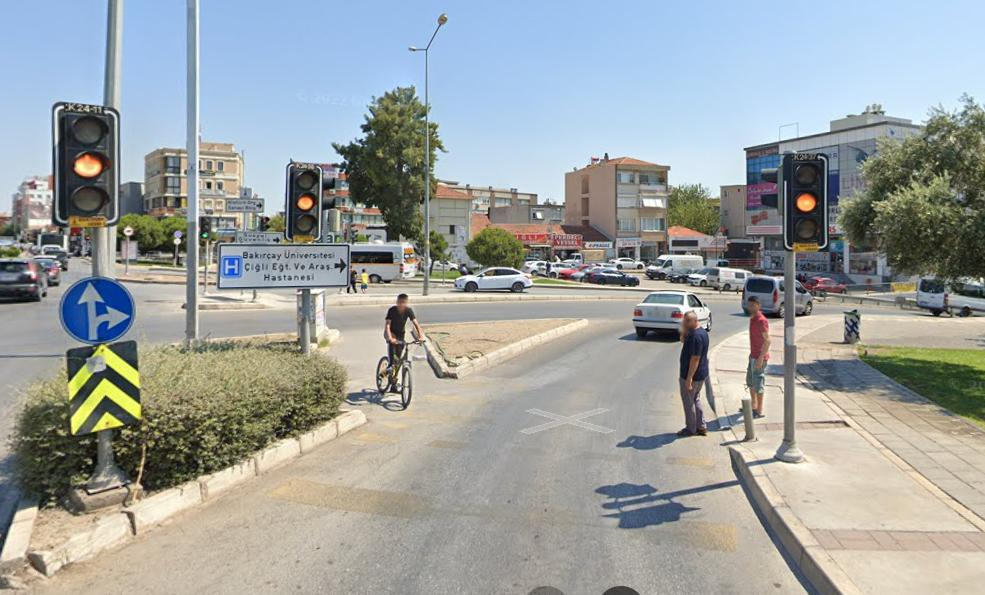yellowlight: (56, 105, 114, 220), (785, 154, 826, 242), (291, 165, 321, 238)
